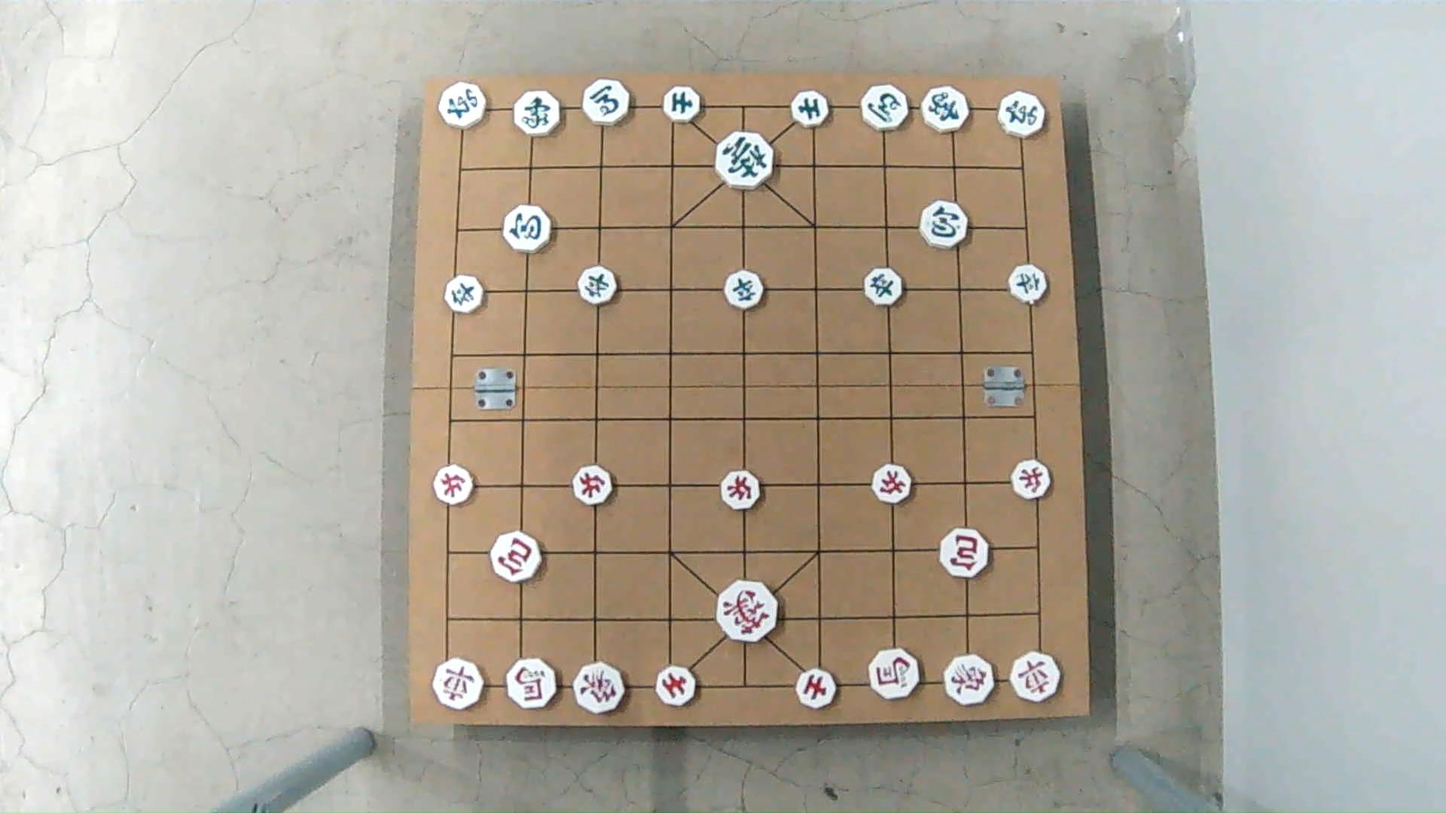cha_green: (438, 84, 489, 127), (999, 93, 1049, 136)
cha_red: (1010, 653, 1066, 701), (431, 661, 485, 708)
jol_green: (575, 269, 620, 305), (443, 275, 486, 312), (722, 273, 766, 309), (1008, 266, 1050, 302), (862, 269, 906, 303)
jol_red: (718, 470, 763, 510), (1010, 459, 1054, 499), (869, 464, 912, 504), (431, 470, 475, 505), (572, 468, 615, 503)
ma_green: (861, 85, 914, 129), (582, 81, 634, 123)
ma_red: (868, 651, 923, 699), (506, 661, 560, 708)
po_green: (499, 207, 552, 251), (920, 203, 973, 246)
po_red: (938, 529, 993, 574), (493, 537, 546, 583)
sa_green: (790, 93, 831, 126), (663, 87, 704, 120)
sa_red: (654, 666, 700, 704), (795, 669, 839, 707)
sang_green: (920, 88, 974, 131), (511, 93, 561, 136)
sang_red: (942, 656, 999, 705), (573, 662, 626, 712)
wang_green: (715, 133, 775, 185)
wang_red: (715, 583, 778, 638)
